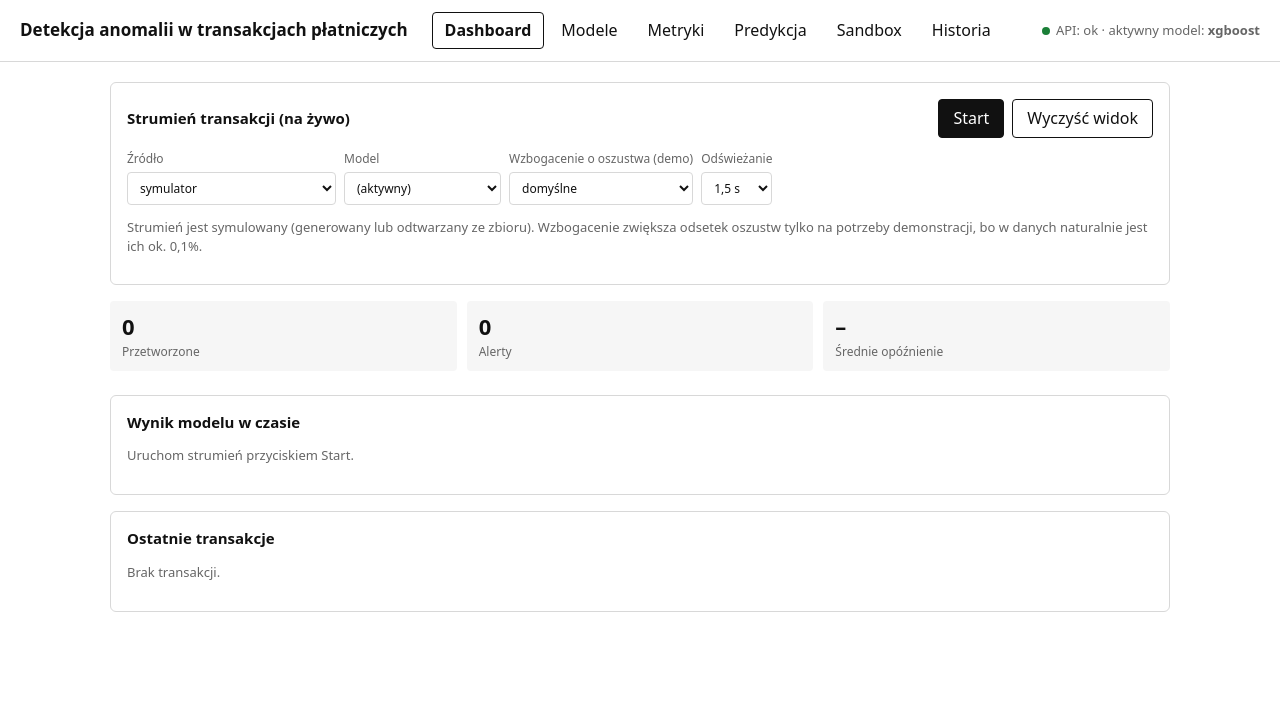
Test: shows header, active model and navigates through all modules
Expected: the text "xgboost" is shown, [1208, 21, 1260, 39]
Click the button "Modele" at (590, 31), box [548, 12, 631, 49]
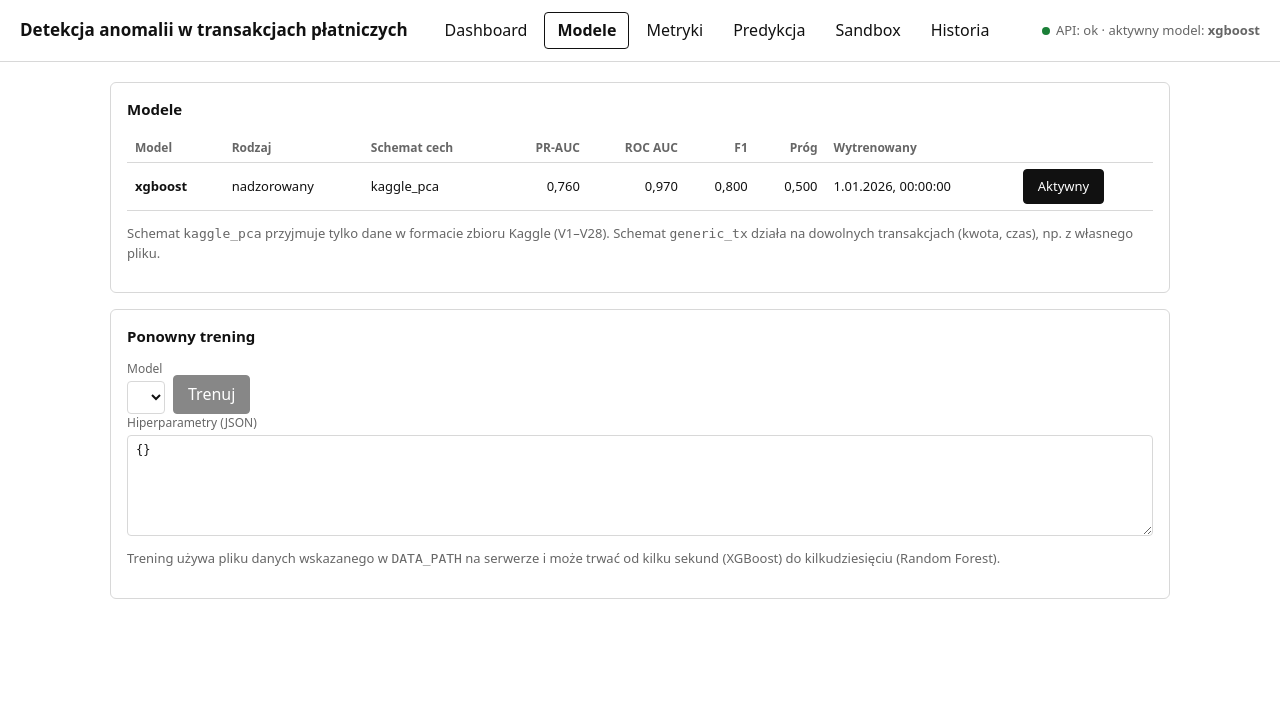
Result: the heading "Ponowny trening" is shown at [127, 326, 255, 348]
Click the button "Metryki" at (675, 31), box [633, 12, 716, 49]
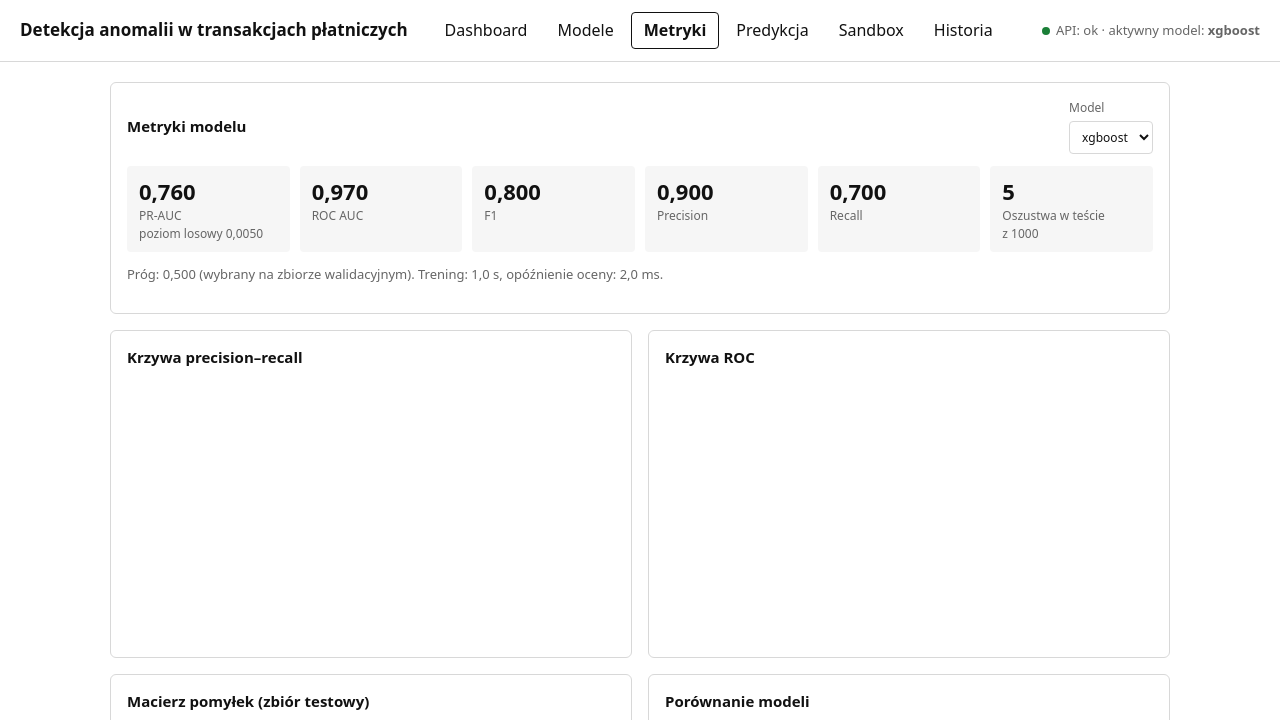
Result: the heading "Krzywa ROC" is shown at [665, 347, 755, 369]
Click the button "Predykcja" at (772, 31), box [723, 12, 822, 49]
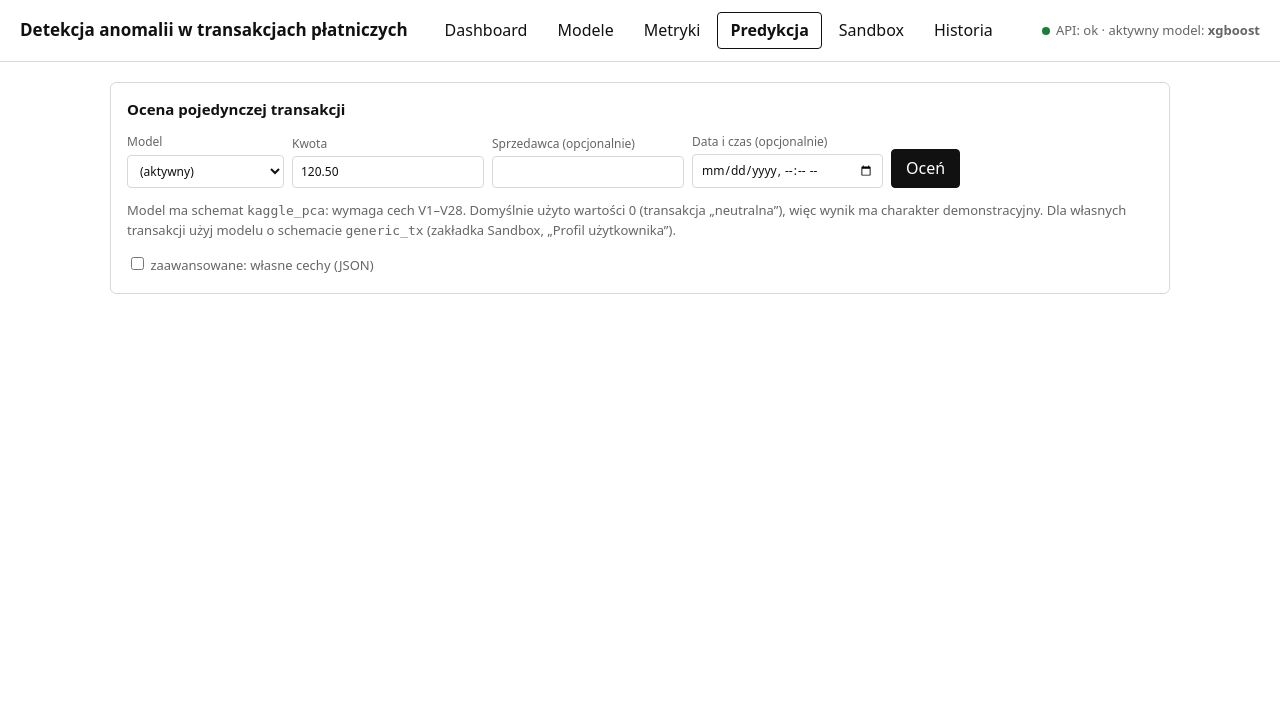
Result: the heading "Ocena pojedynczej transakcji" is shown at [127, 99, 345, 121]
Click the button "Sandbox" at (871, 31), box [826, 12, 917, 49]
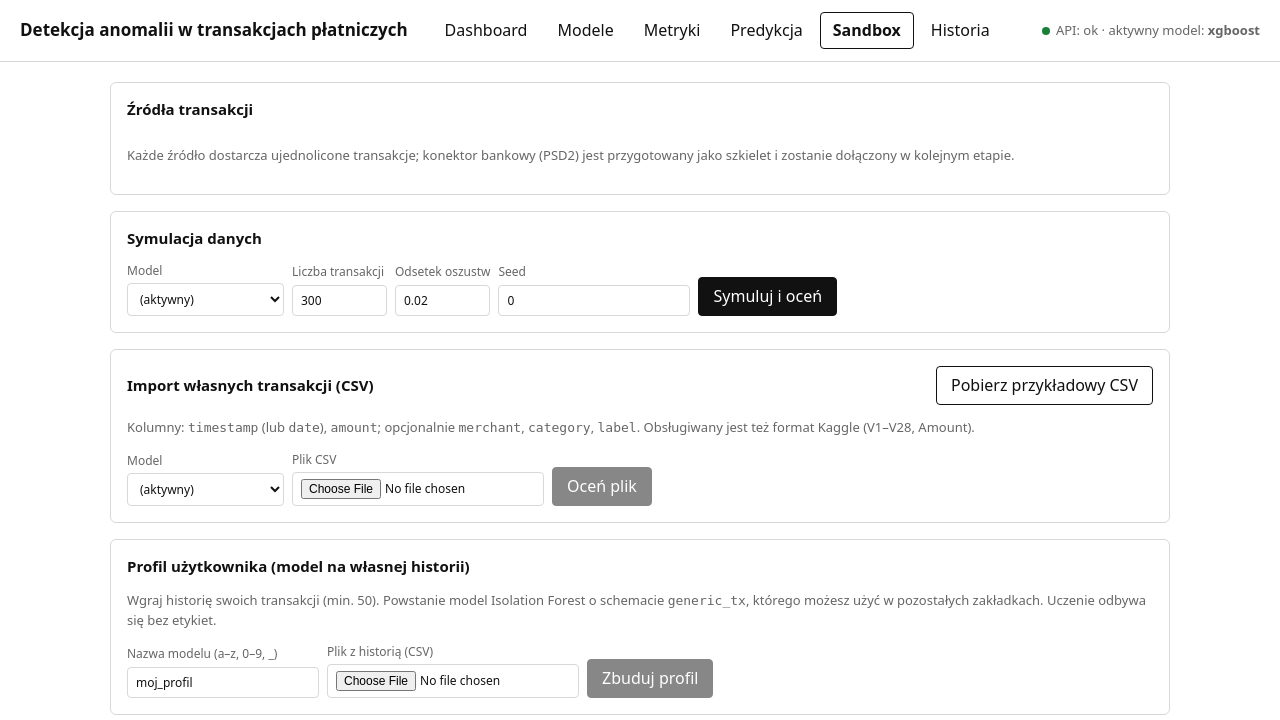
Result: the heading "Symulacja danych" is shown at [127, 228, 262, 250]
Click the button "Historia" at (960, 31), box [918, 12, 1003, 49]
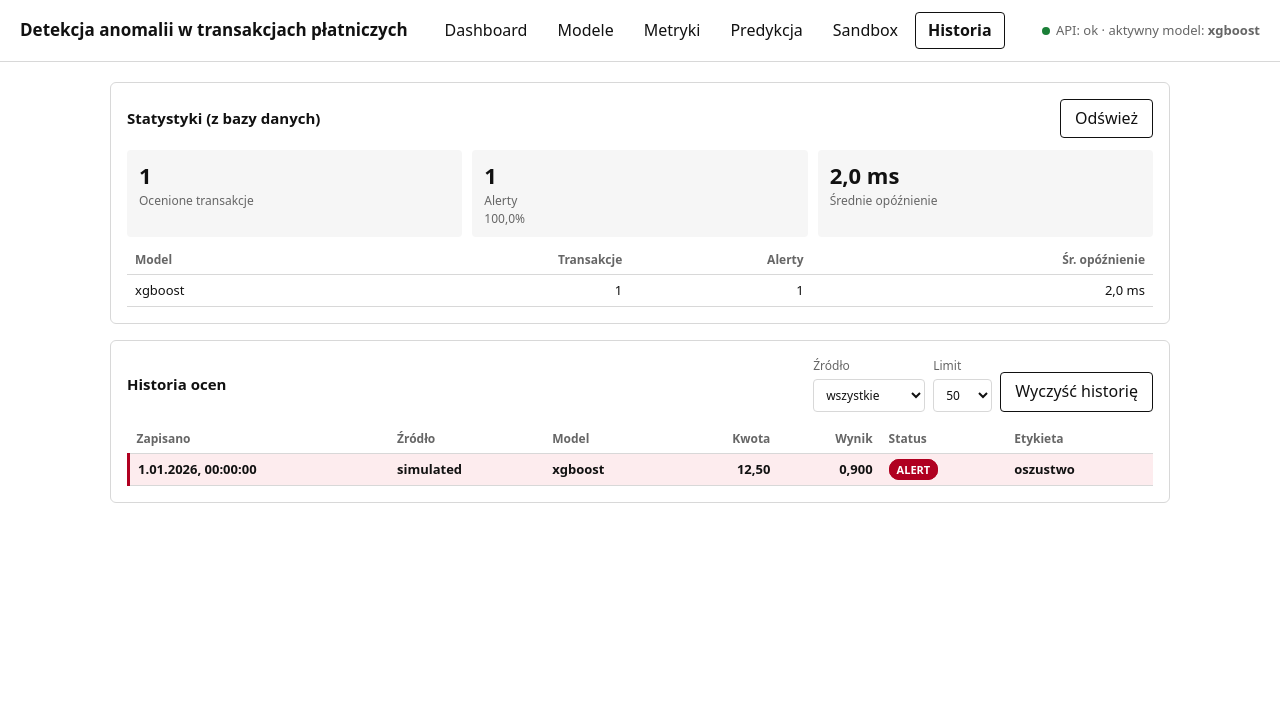
Result: the heading "Historia ocen" is shown at [127, 374, 226, 395]
Click the button "Dashboard" at (486, 31), box [432, 12, 540, 49]
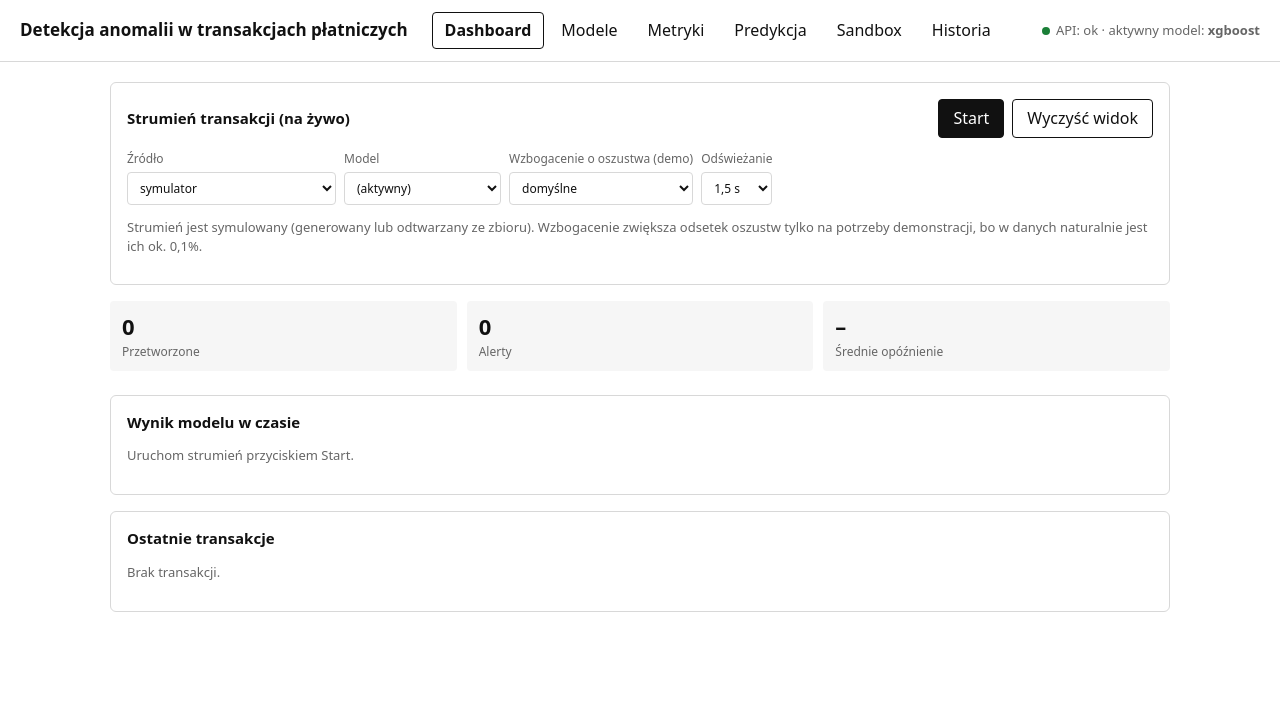
Result: the heading "Strumień transakcji (na żywo)" is shown at [127, 108, 350, 130]
